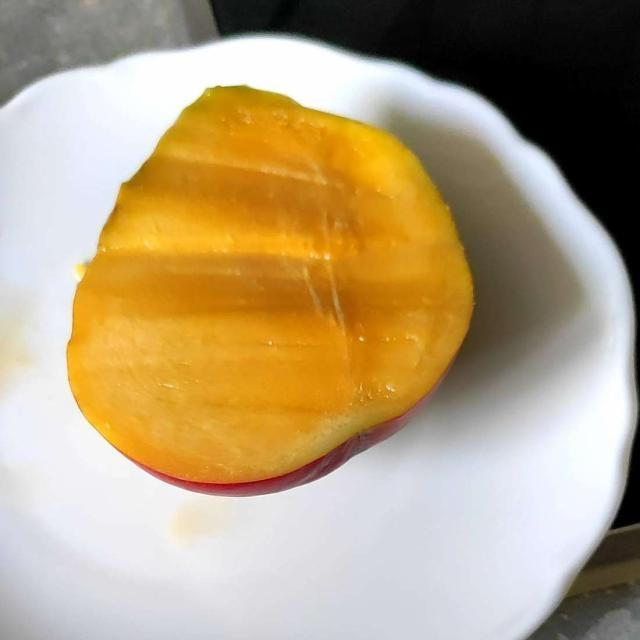mango: (74, 87, 468, 488)
